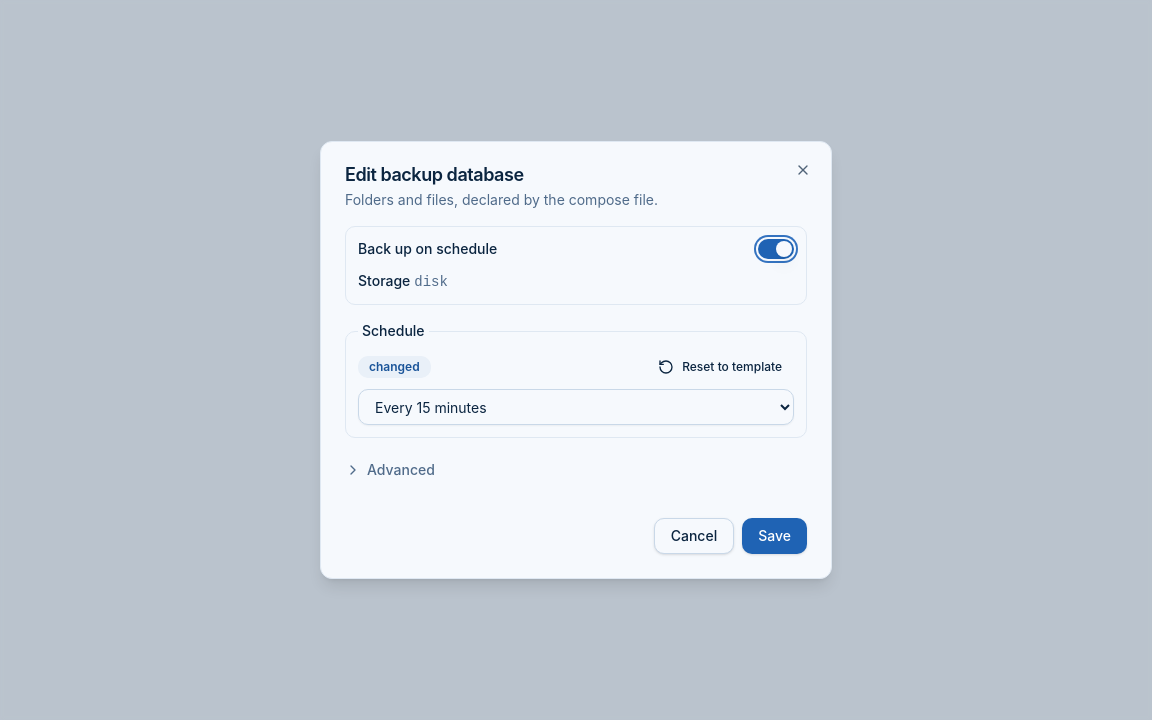
Test: BackupEditDialog › keeps retention, location and skipped paths under Advanced, closed
Expected: the dropdown named "Schedule" is shown, top-left (358, 389), bottom-right (794, 425)
Expected: the field labelled "Every copy for" is not shown
Click the button "Advanced": coordinates (390, 470) top-left (345, 450), bottom-right (435, 490)
(page scrolled)
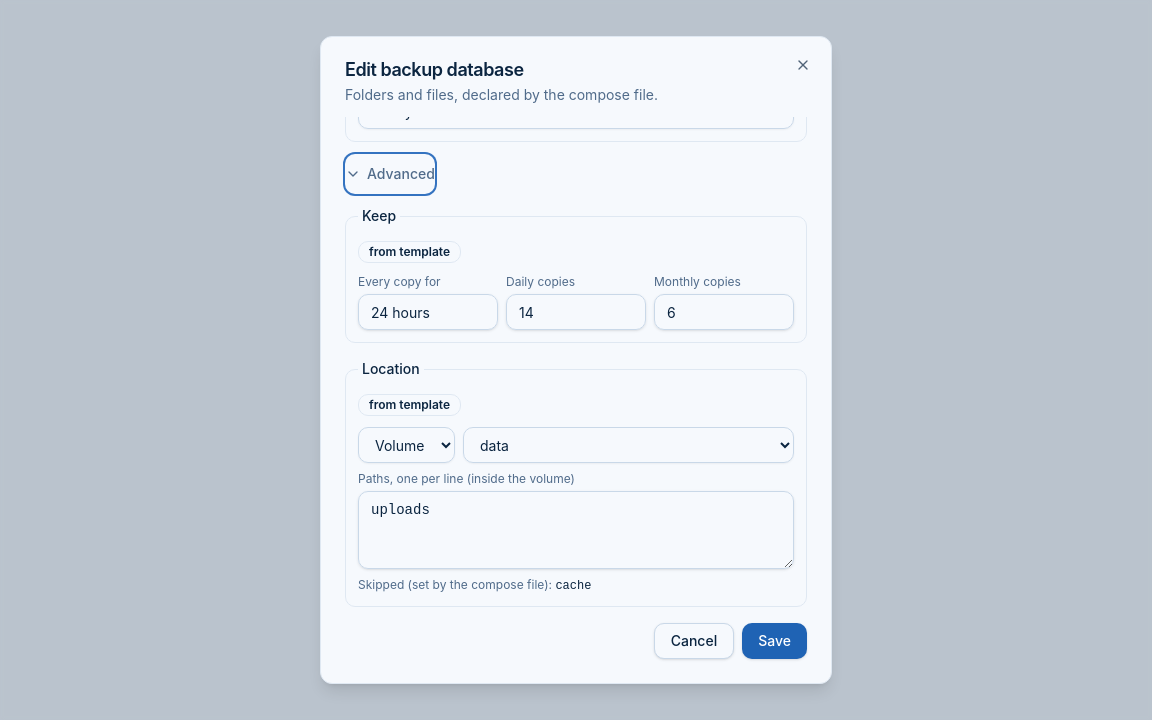
Expected: the field labelled "Every copy for" is shown, top-left (358, 294), bottom-right (498, 330)
Expected: the dropdown named "Location kind" is shown, top-left (358, 427), bottom-right (455, 463)
Expected: the text "cache" is shown, top-left (555, 579), bottom-right (591, 593)
